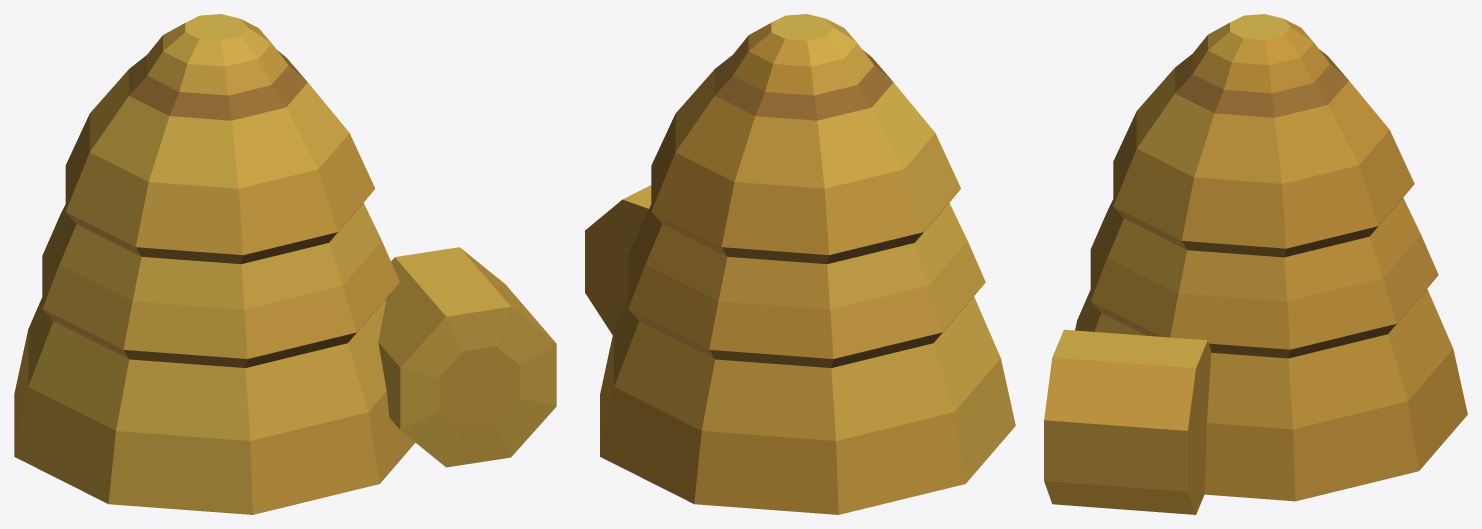
Rendered from haystack.glb.
3 views of the same model, side by side, from view 1: azimuth 30°, elevation 25°; view 2: azimuth 150°, elevation 25°; view 3: azimuth 270°, elevation 25° (orthographic). The views are drawn at different scales.
Visible parts, largest first — view 1: haystack; view 2: haystack; view 3: haystack.
Part boxes in pixels (box(x1,y1,x2,y2)): haystack: box(14, 14, 556, 514); haystack: box(585, 14, 1015, 514); haystack: box(1044, 14, 1467, 514).
Bounding box in the file's own units: 1 × 0.8732 × 0.8655.
